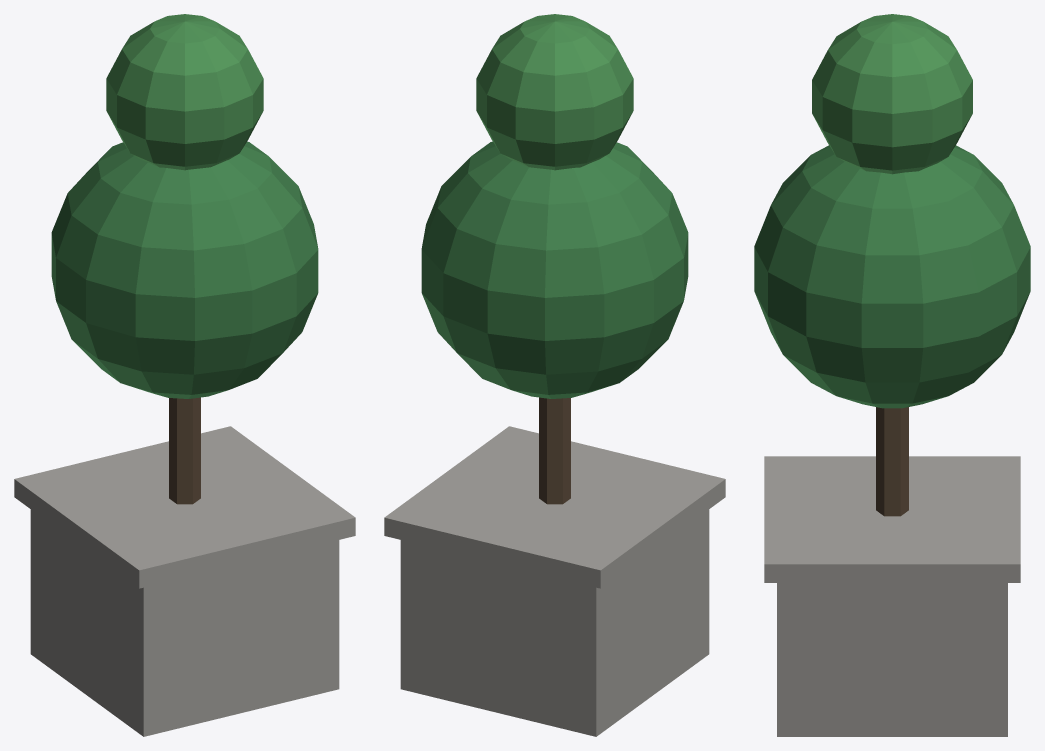
The model's file is topiary.glb.
3 views of the same model, side by side, from view 1: azimuth 30°, elevation 25°; view 2: azimuth 150°, elevation 25°; view 3: azimuth 270°, elevation 25° (orthographic). The views are drawn at different scales.
Parts seen in each view (by area): view 1: topiary; view 2: topiary; view 3: topiary.
Part boxes in pixels (x1,y1,x2,y2): topiary: (14, 14, 355, 736); topiary: (384, 14, 725, 736); topiary: (754, 14, 1030, 736).
Bounding box in the file's own units: 0.6529 × 1.78 × 0.6697.
